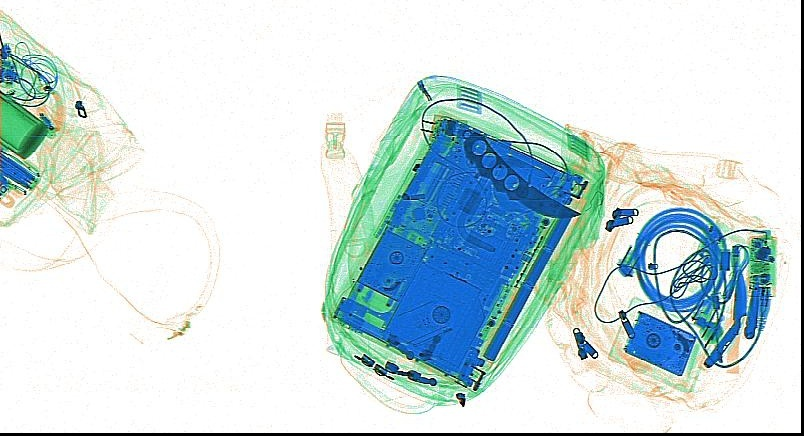knife: (462, 128, 582, 218), (726, 268, 746, 373), (702, 317, 741, 368), (743, 282, 760, 339)
